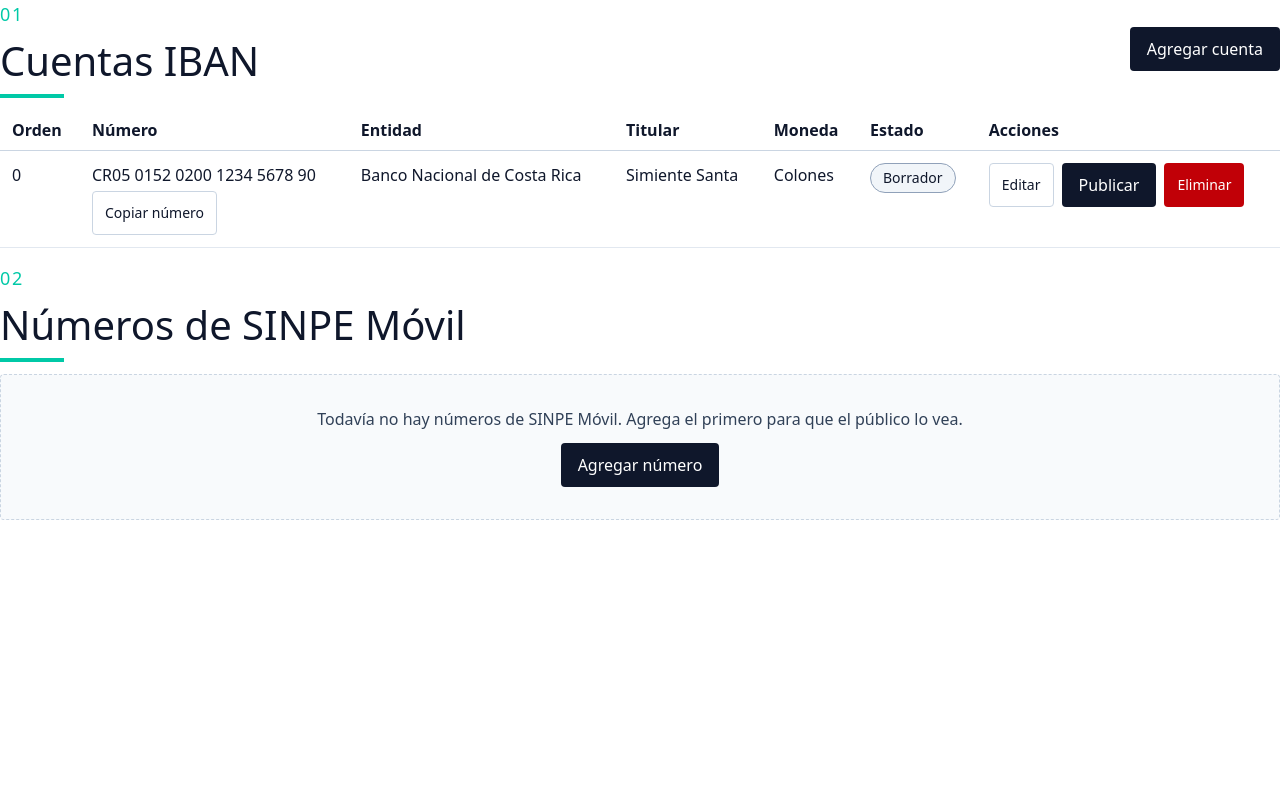
Scenario: DonacionesListsByType (ux.md §4.3/§5.b, Q1/Q2) › eliminar pide confirmación explícita y avisa (FR-017)
Click the button "Eliminar". click: (1204, 185)
box: [1164,163,1244,207]
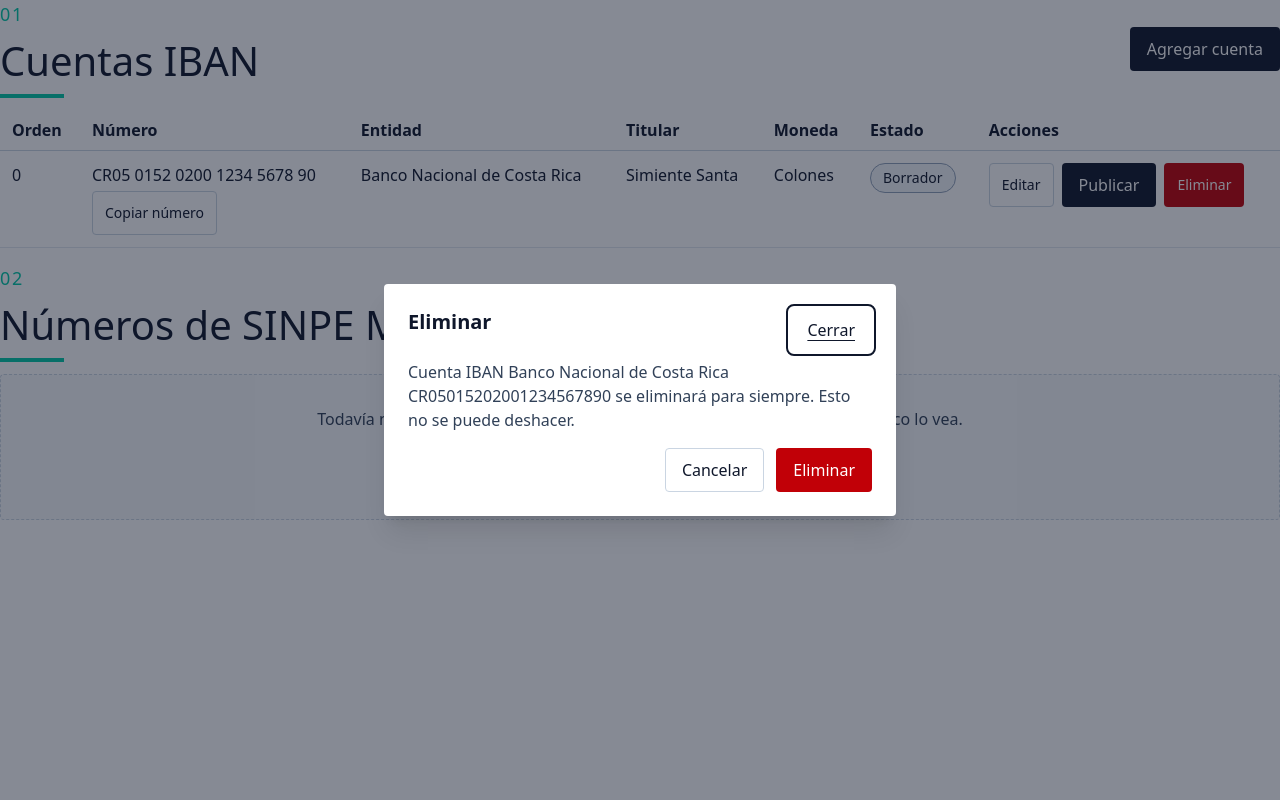
Expected: the dialog shows "se eliminará para siempre", [408,361,850,431]
Click the button "Eliminar". click: (824, 470)
box: [776,448,872,492]
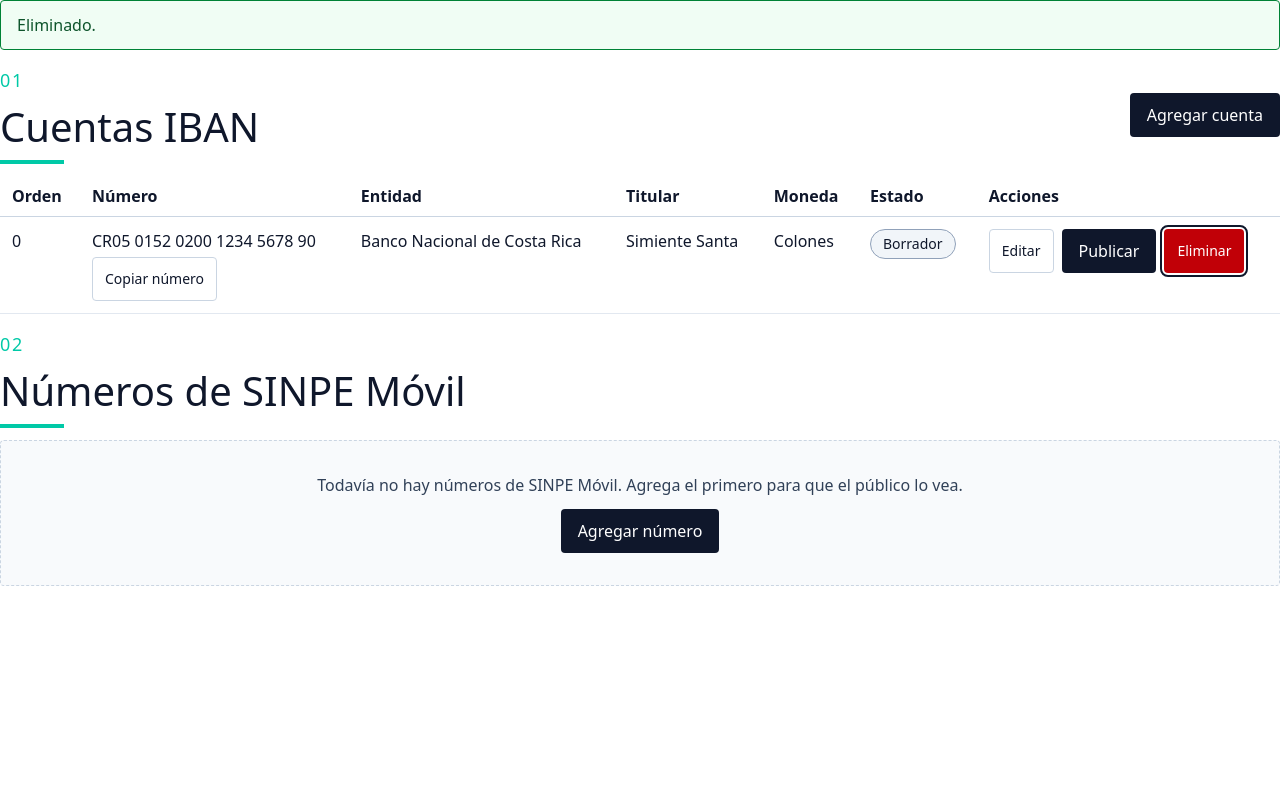
Expected: the text "Eliminado." is shown, [0,0,1279,50]
